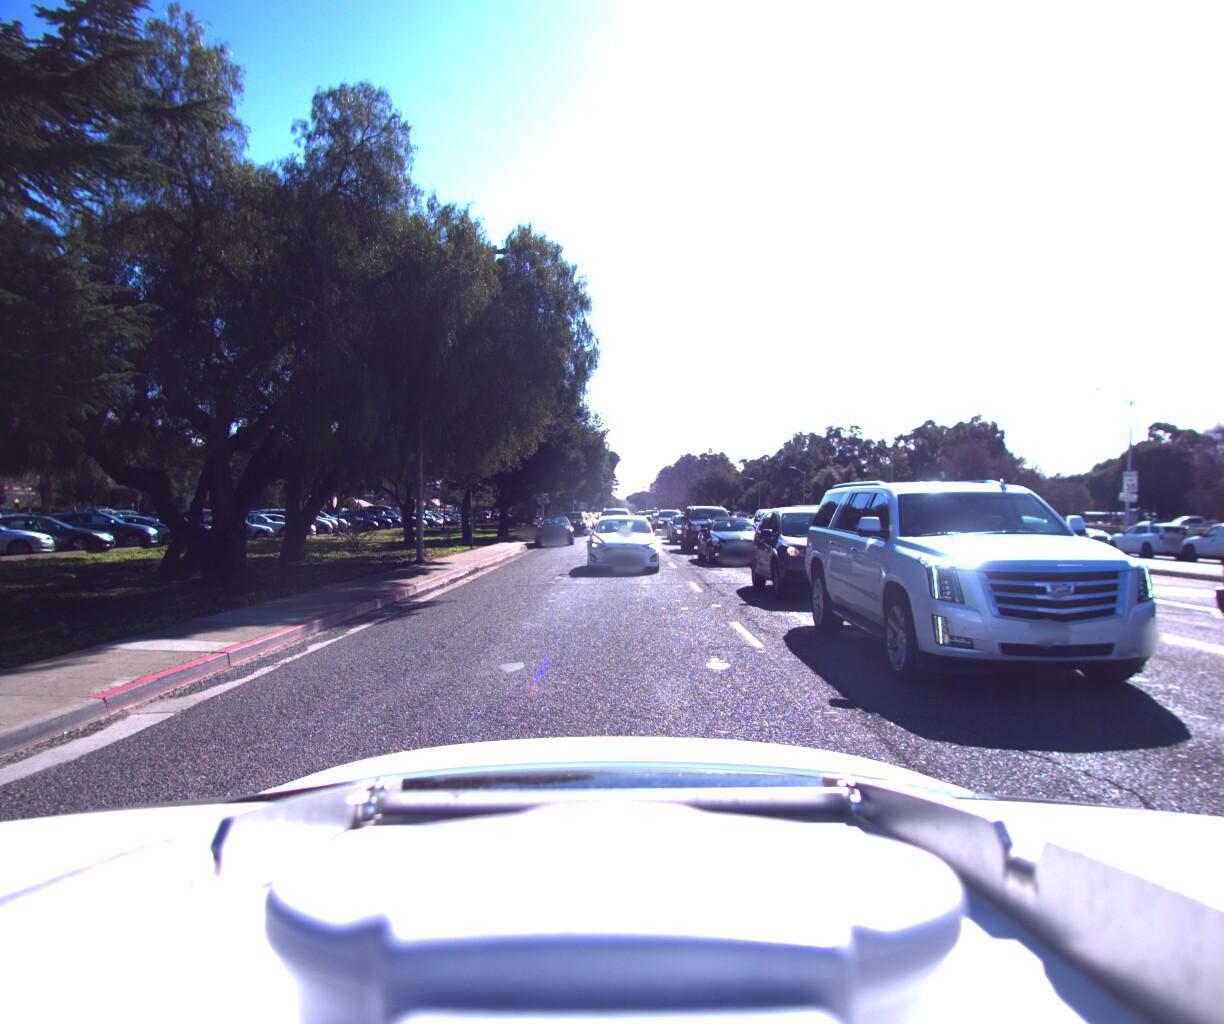car: (806, 455, 1197, 715), (745, 505, 888, 603), (1194, 472, 1224, 787), (587, 510, 663, 573), (1101, 518, 1204, 559), (696, 515, 774, 568), (994, 509, 1069, 548), (676, 504, 733, 553), (1174, 517, 1224, 571), (1045, 523, 1122, 553), (740, 507, 794, 548), (529, 514, 577, 546), (667, 509, 711, 543)
